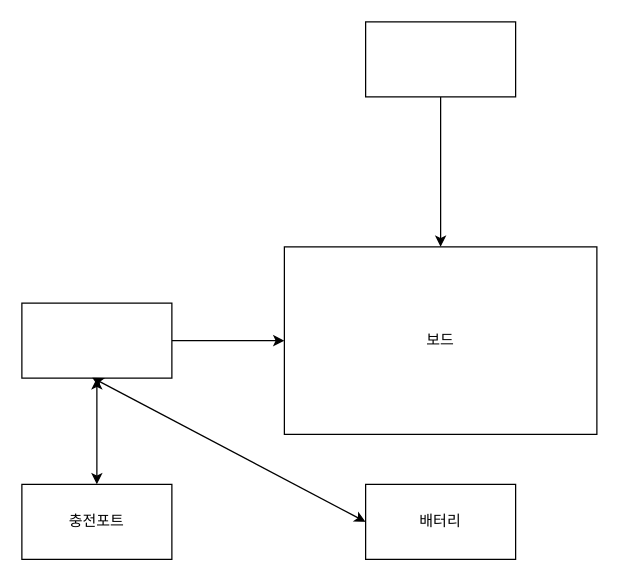
The diagram is 619 pixels wide and 581 high, and some of its shapes have lost their labels. The shapes that lost their labels are listed below. From the top down, each one's centre as x and y in pixels, then its label:
At point 440,59: "배터리 표시기".
At point 96,340: "전원 스위치".
